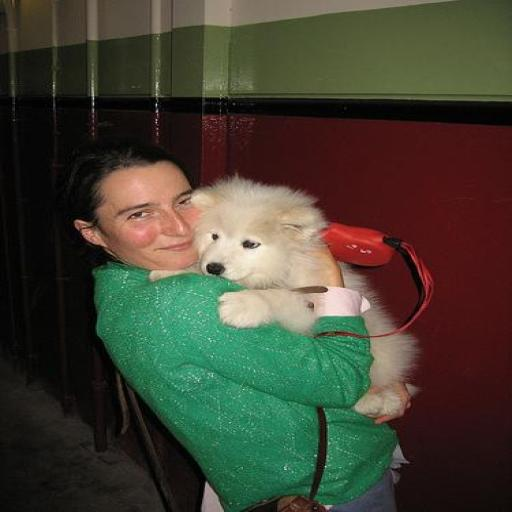dog_face: (191, 187, 326, 287)
